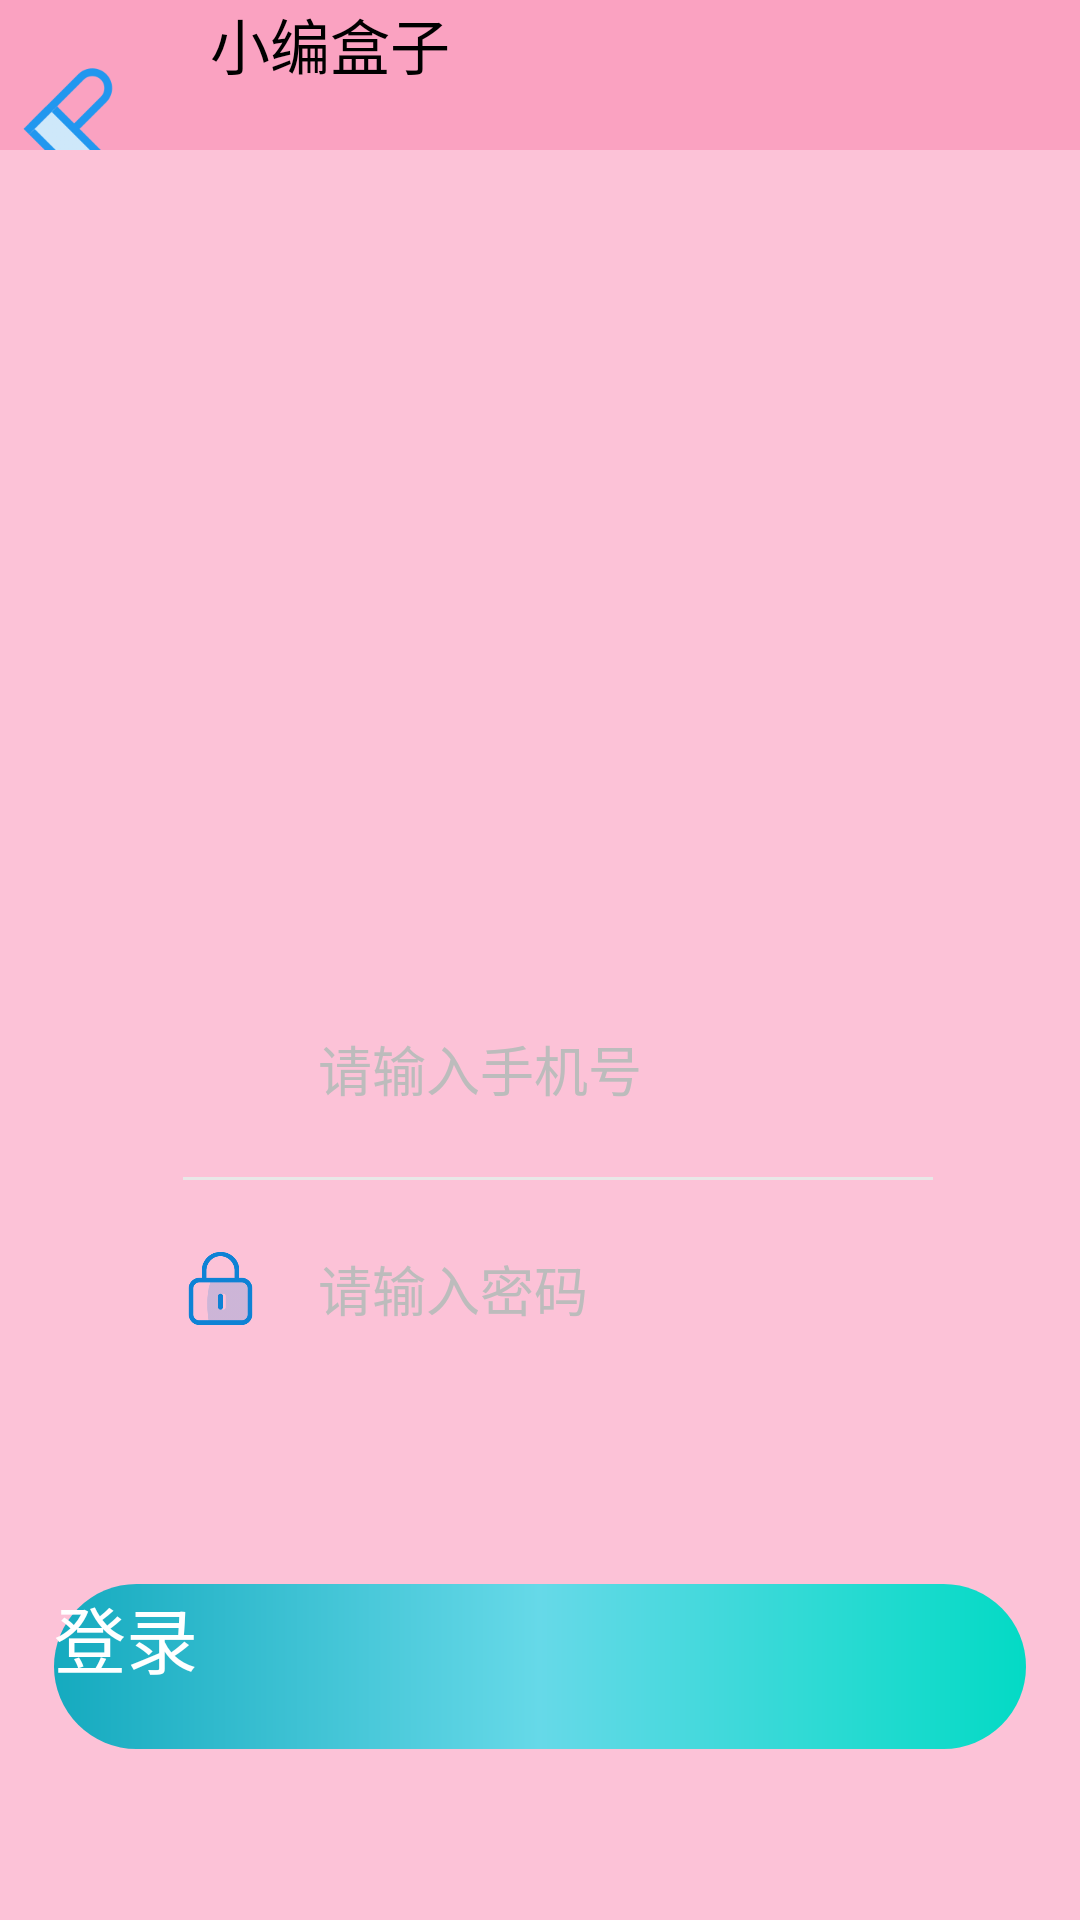

Named icons in this screenshot (1080*1920) and their bounding boxes, (x1, y1, x2, y2):
mima: (188, 1252, 253, 1325)
